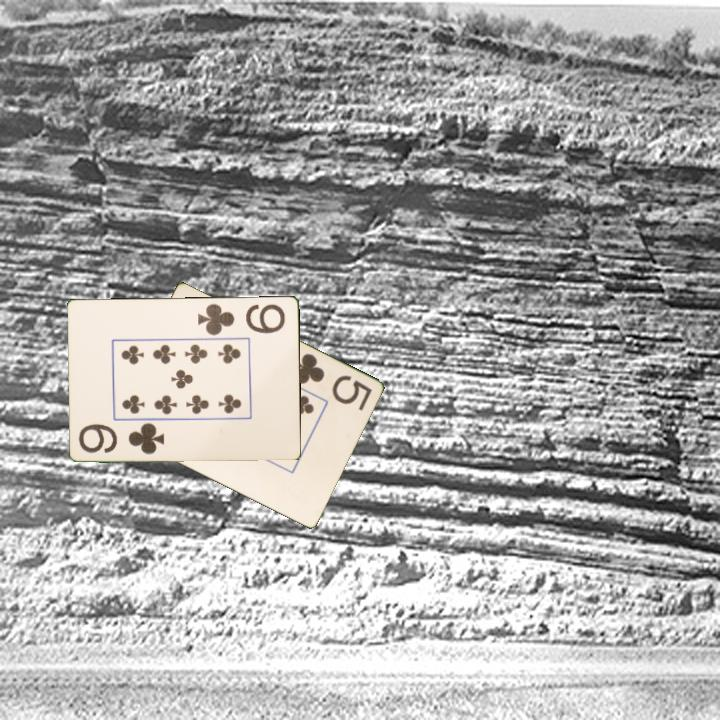5c: (285, 350, 375, 414)
9c: (194, 300, 289, 338), (75, 420, 167, 457)
